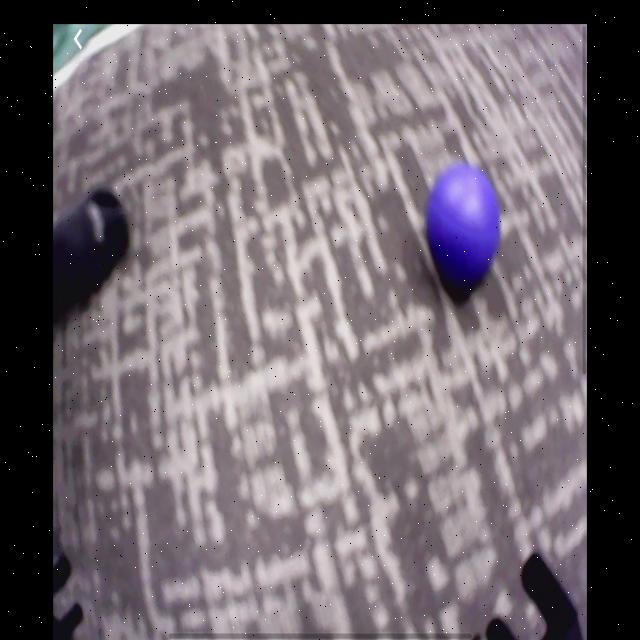ball: (427, 167, 500, 288)
